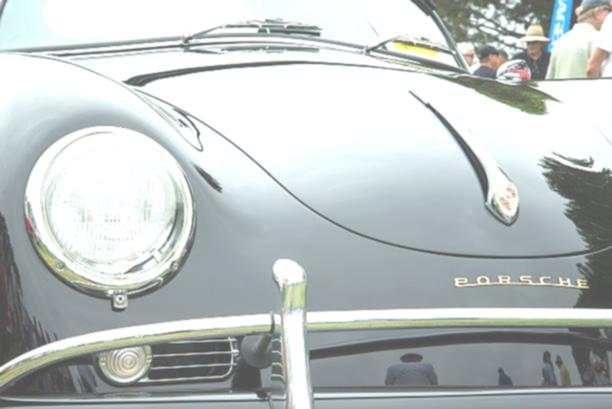porsche: (444, 268, 599, 292), (487, 181, 528, 216)
